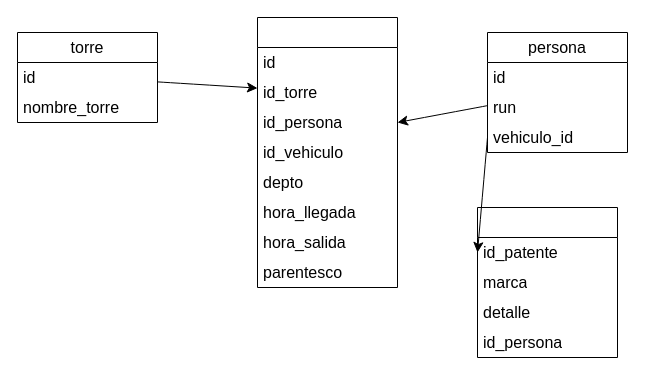
The diagram is 645 pixels wide and 375 high, and some of its shapes have lost their labels. The box of each missing label's shape, as (x1, y1, x2, y2) in pixels:
vehiculo: (476, 206, 618, 358)
visita: (256, 16, 398, 288)
